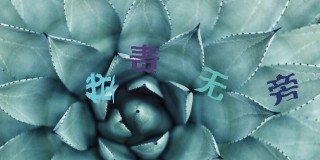旁: (266, 72, 299, 107)
无: (195, 67, 228, 101)
责: (130, 44, 160, 74)
贷: (85, 71, 117, 102)
